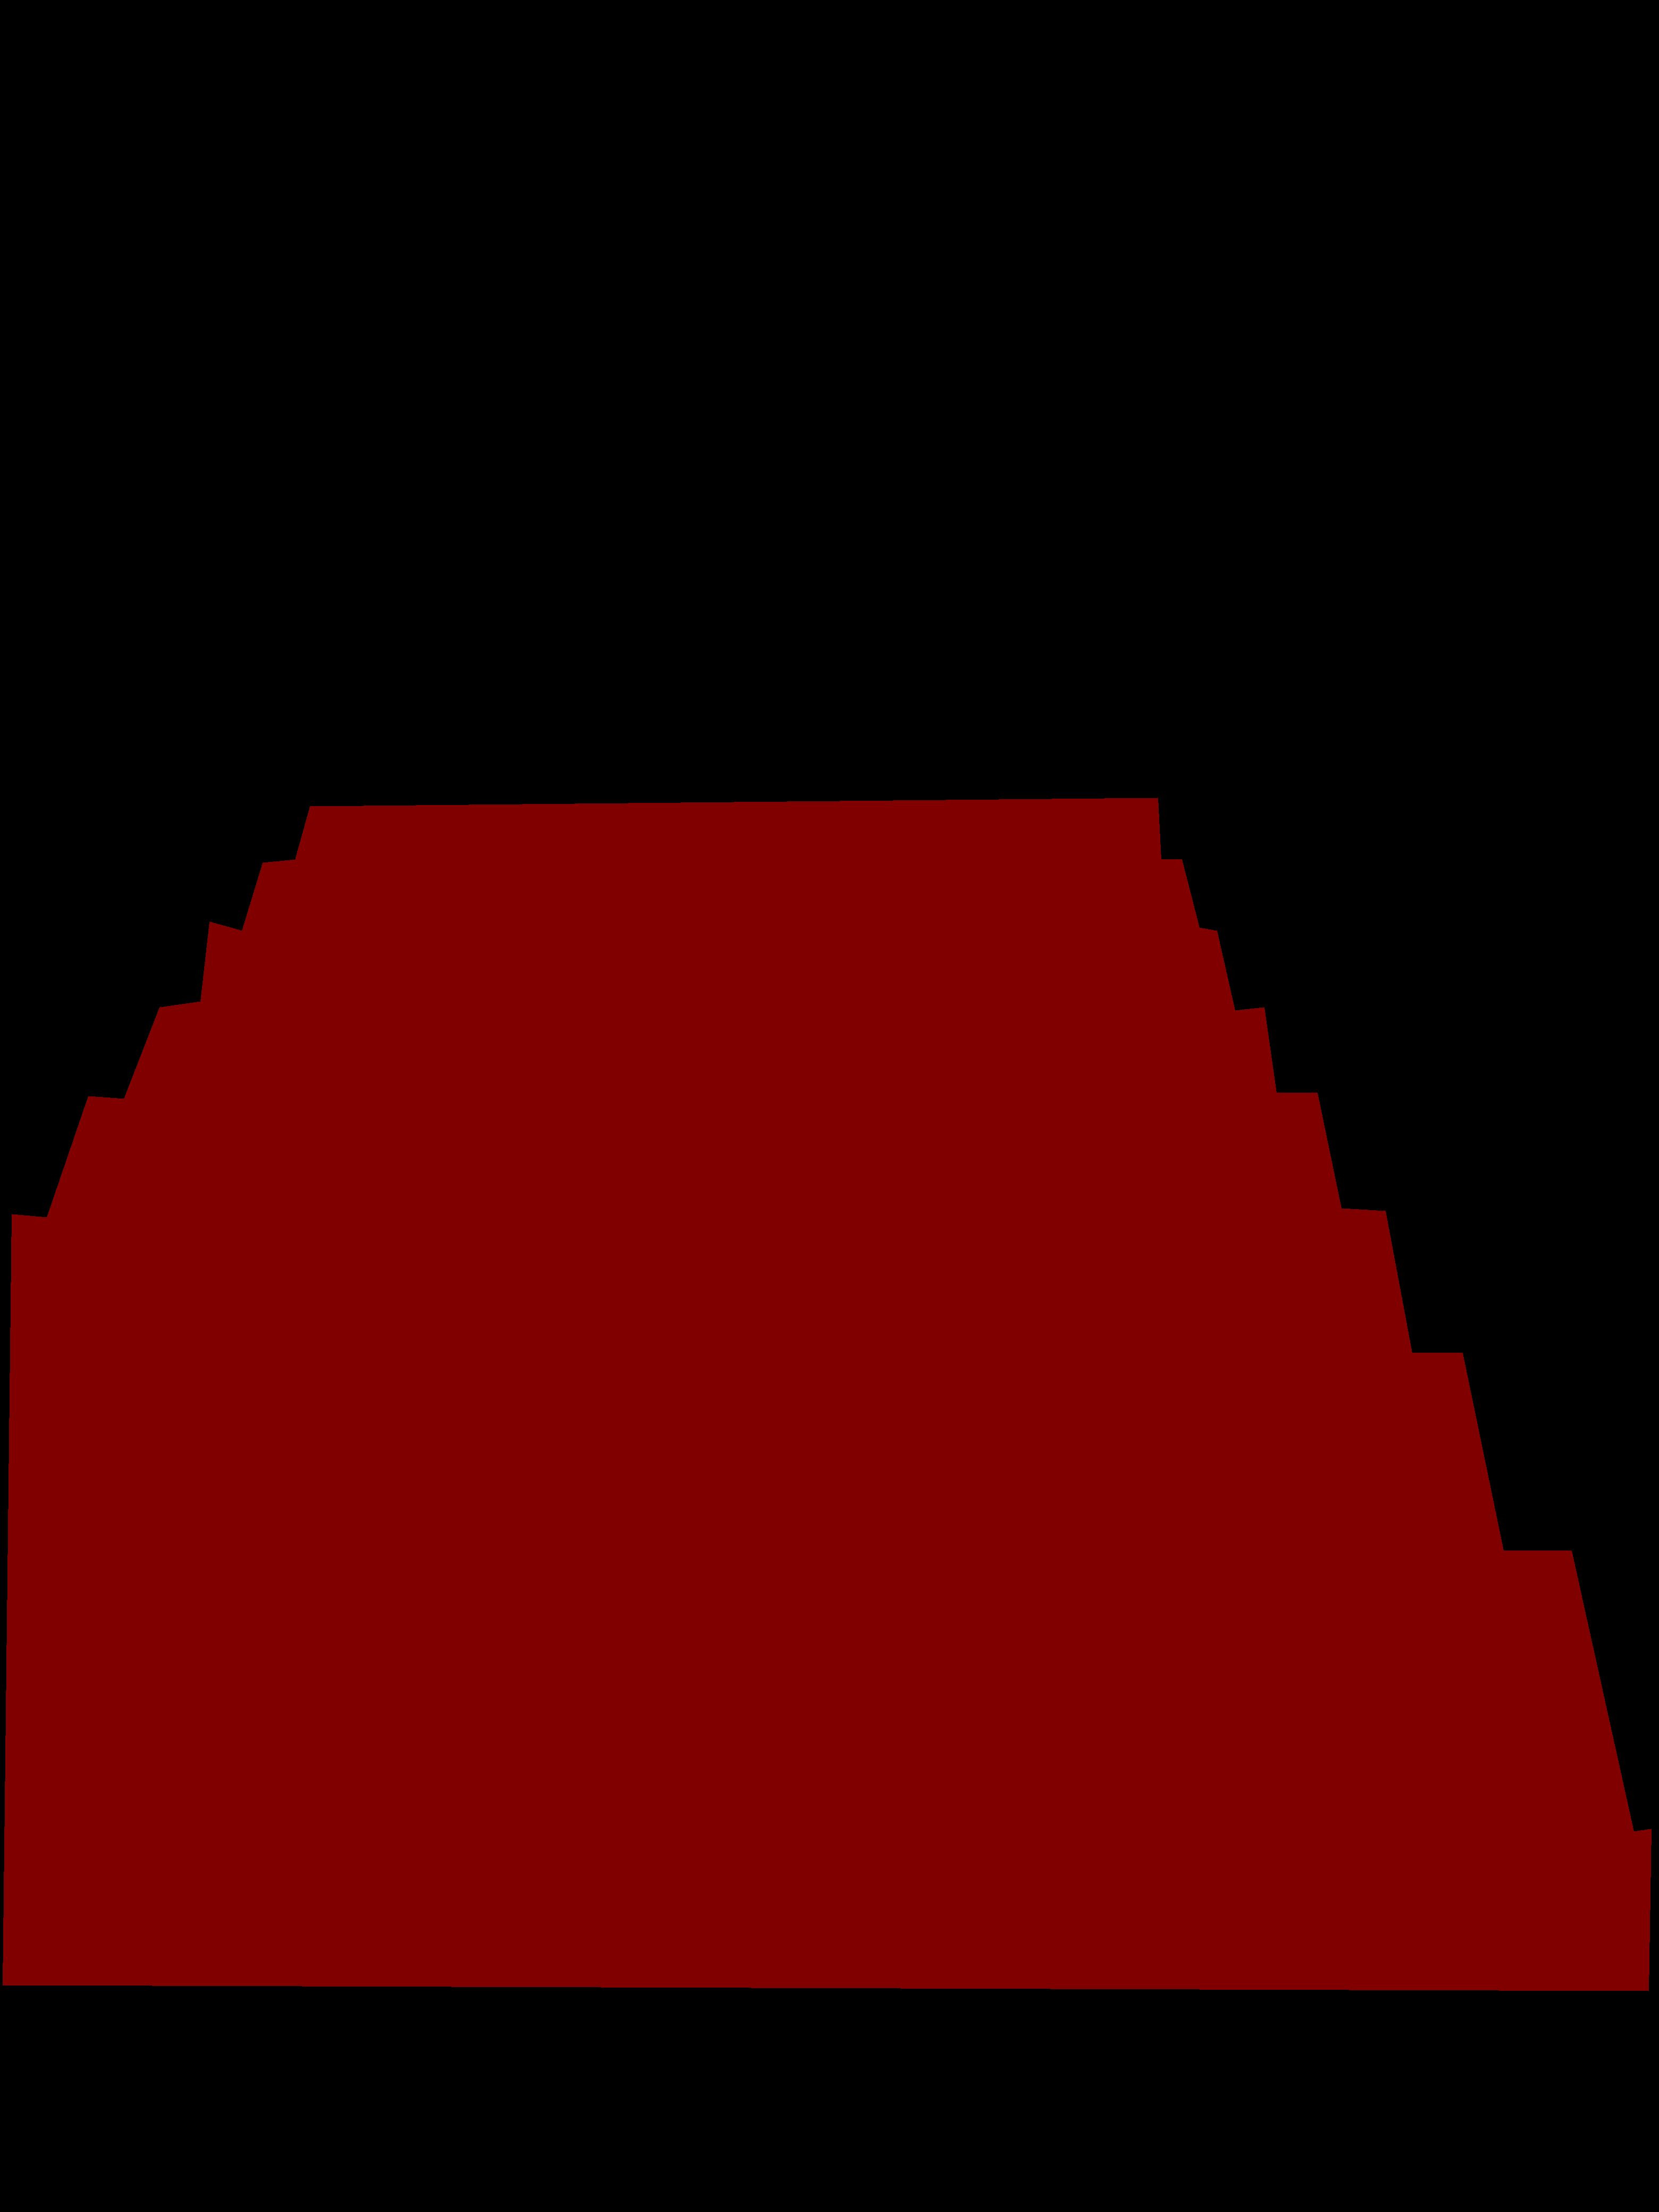stair: (3, 798, 1650, 1991)
